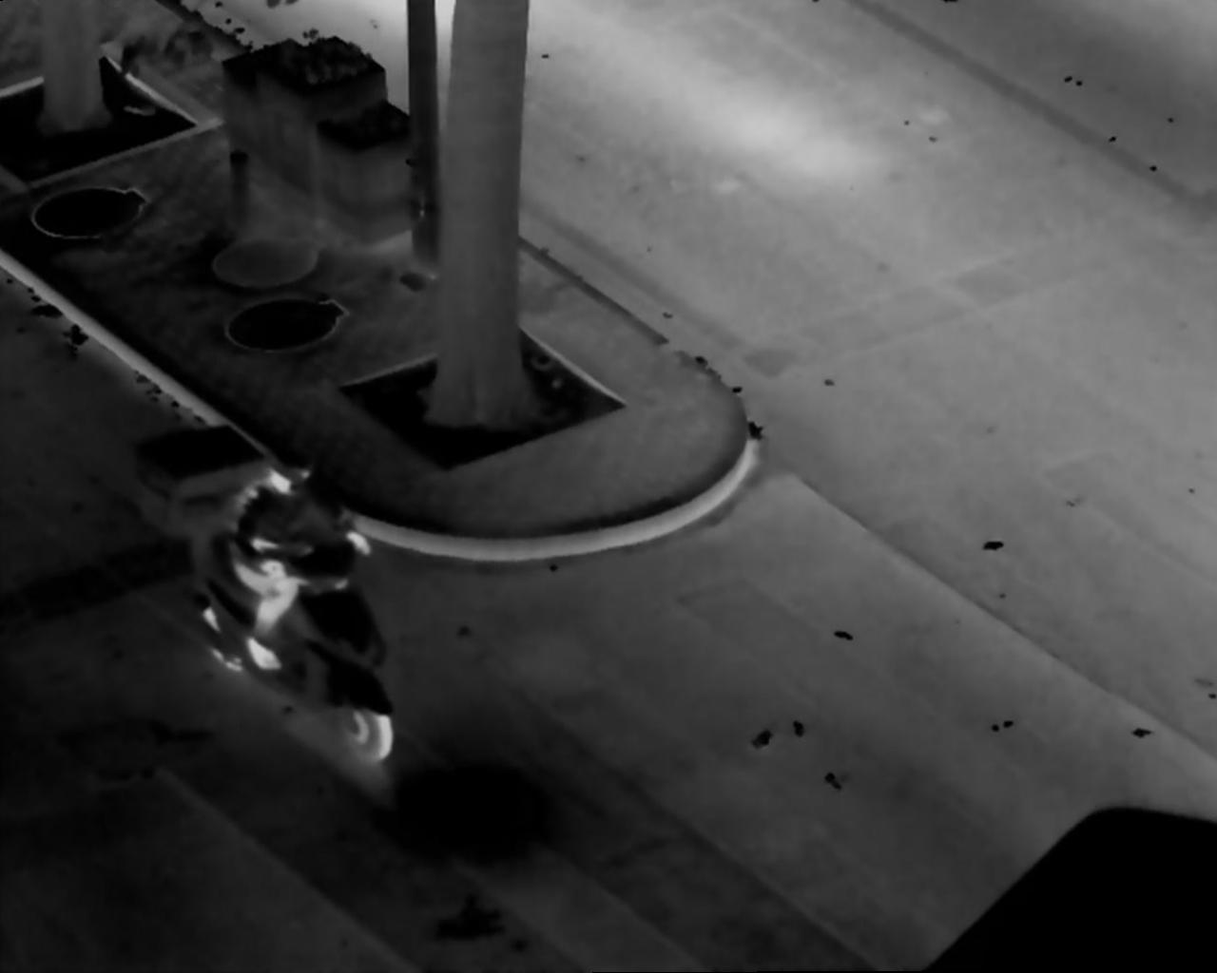person: (235, 452, 369, 732)
